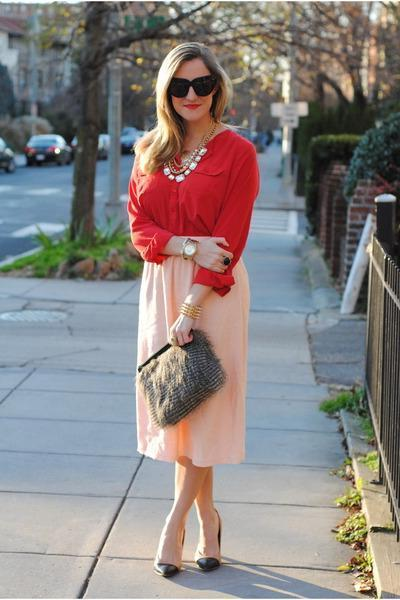long sleeve shirt: (123, 127, 265, 296)
skirt: (134, 238, 257, 468)
